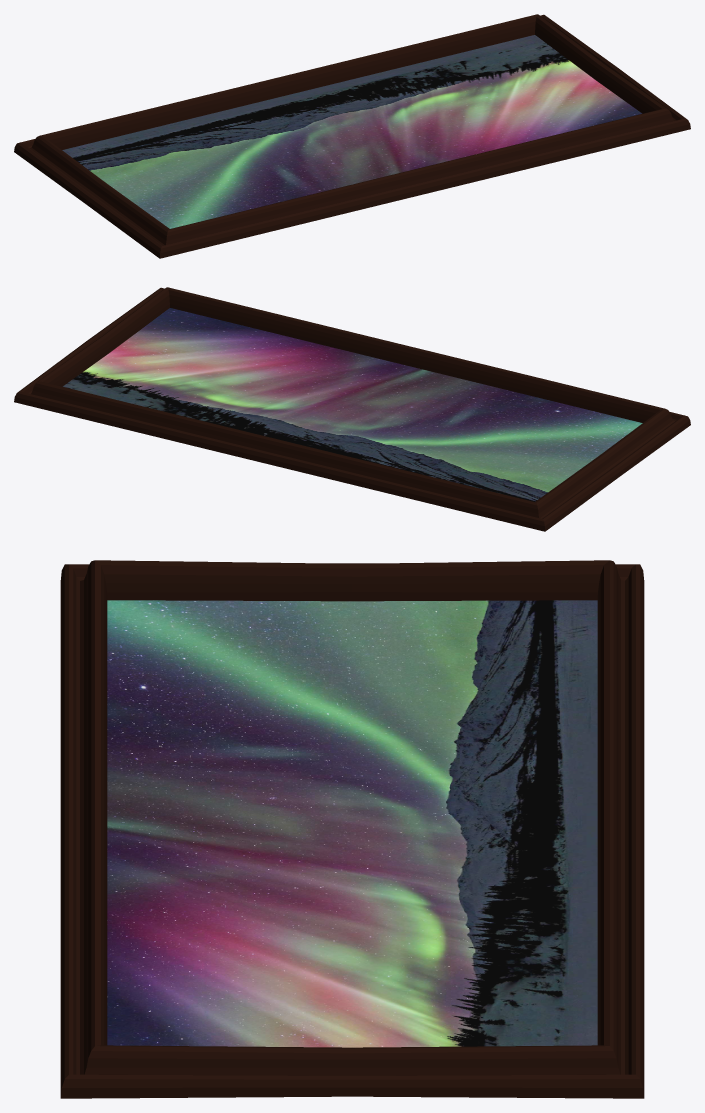
Rendered from Rahmen Planten.fbx.
3 renders of one model, top to bottom at view 1: azimuth 30°, elevation 25°; view 2: azimuth 150°, elevation 25°; view 3: azimuth 270°, elevation 25°, orthographic. The views are drawn at different scales.
Parts seen in each view (by area): view 1: Plane; view 2: Plane; view 3: Plane.
Part boxes in pixels (bbox=[...]): Plane: bbox=[14, 14, 690, 258]; Plane: bbox=[14, 287, 690, 531]; Plane: bbox=[60, 560, 644, 1098].
Bounding box in the file's own units: 58.44 × 1.93 × 27.68.
